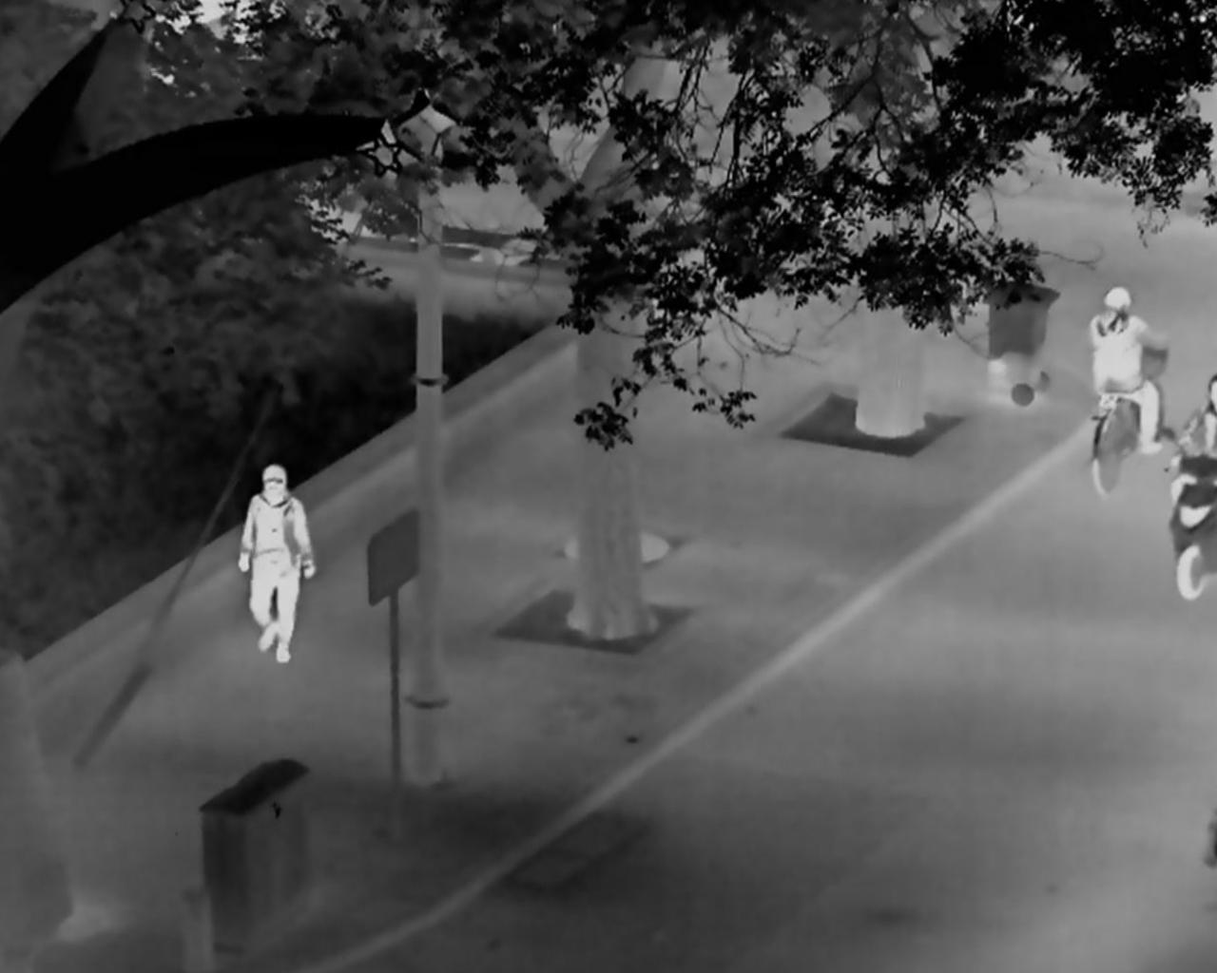person: (236, 462, 316, 664), (1085, 284, 1168, 453), (1161, 374, 1217, 474)
